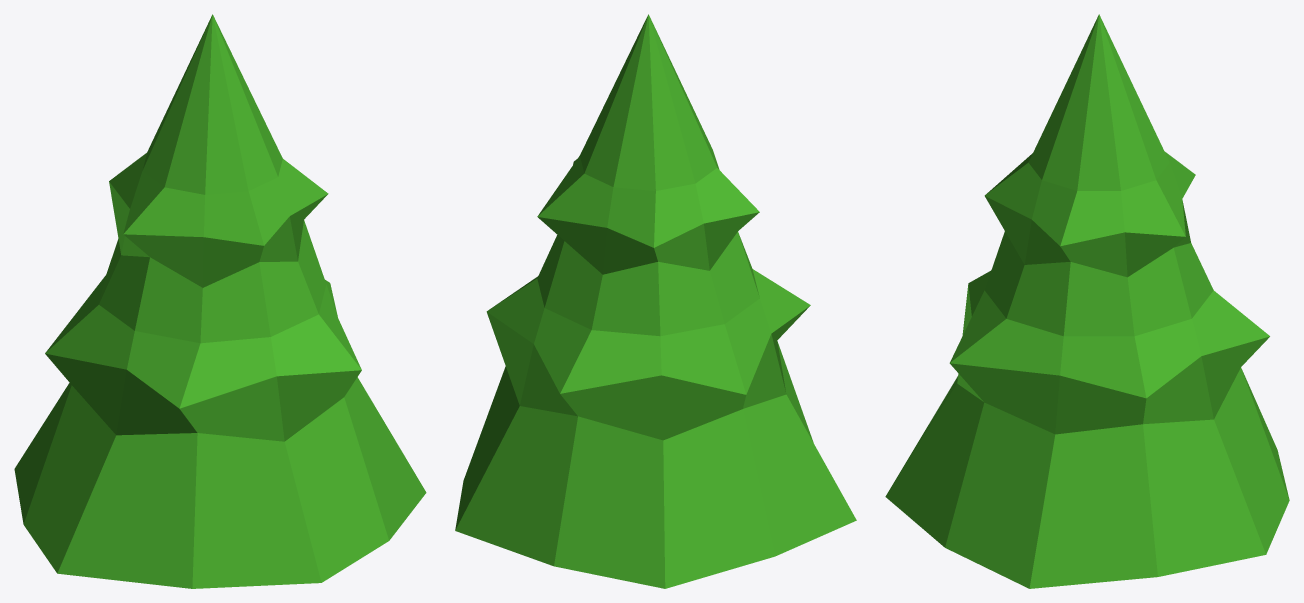
Rendered from Tree.fbx.
3 renders of one model, left to right at view 1: azimuth 30°, elevation 25°; view 2: azimuth 150°, elevation 25°; view 3: azimuth 270°, elevation 25°, orthographic. The views are drawn at different scales.
Parts seen in each view (by area): view 1: Tree; view 2: Tree; view 3: Tree.
Part boxes in pixels (bbox=[...]): Tree: bbox=[14, 14, 426, 588]; Tree: bbox=[455, 14, 856, 588]; Tree: bbox=[885, 14, 1289, 588].
Bounding box in the file's own units: 1.54 × 2.01 × 1.51.
